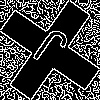J: (25, 25, 71, 77)
